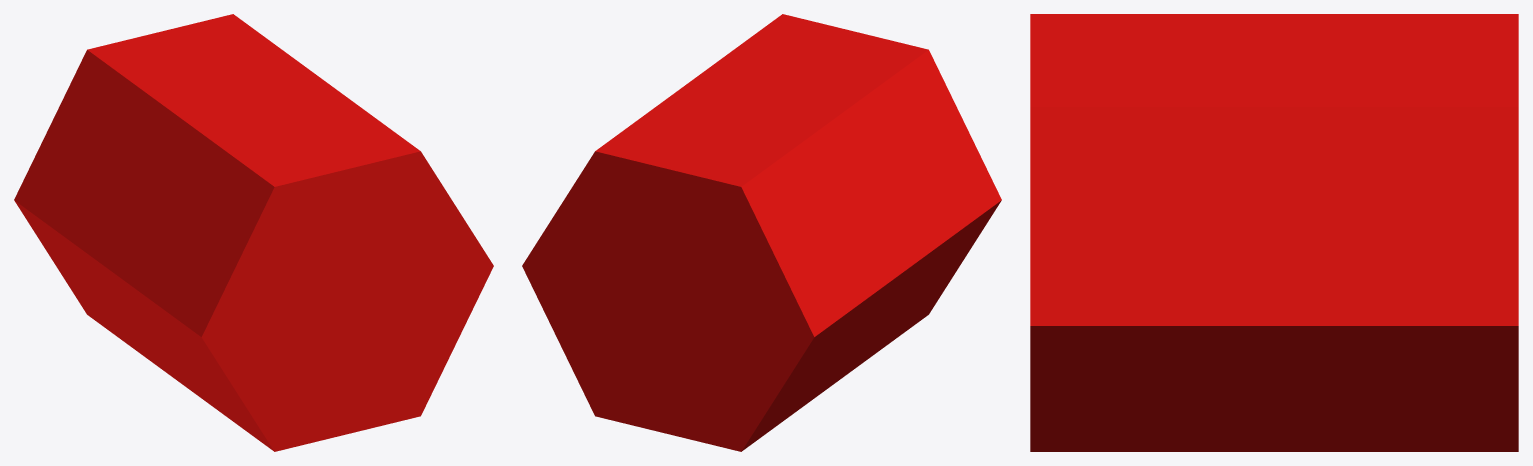
Rendered from block_red_hexagonal_prism.obj.
3 views of the same model, side by side, from view 1: azimuth 30°, elevation 25°; view 2: azimuth 150°, elevation 25°; view 3: azimuth 270°, elevation 25° (orthographic). The views are drawn at different scales.
Parts seen in each view (by area): view 1: block_red_hexagonal_prism; view 2: block_red_hexagonal_prism; view 3: block_red_hexagonal_prism.
Part boxes in pixels (x1=…): block_red_hexagonal_prism: x1=14, y1=14, x2=493, y2=451; block_red_hexagonal_prism: x1=522, y1=14, x2=1001, y2=451; block_red_hexagonal_prism: x1=1030, y1=14, x2=1518, y2=451.
Size of the model in its own units: 0.036 by 0.0312 by 0.04.
